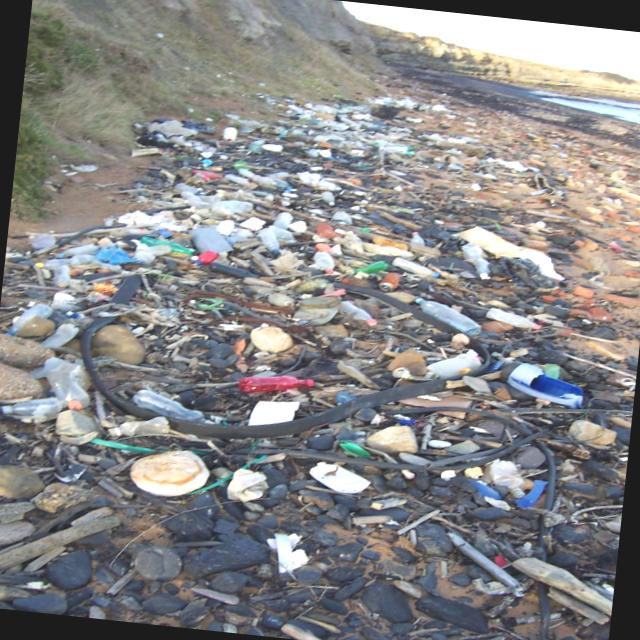garbage: (0, 86, 579, 640)
